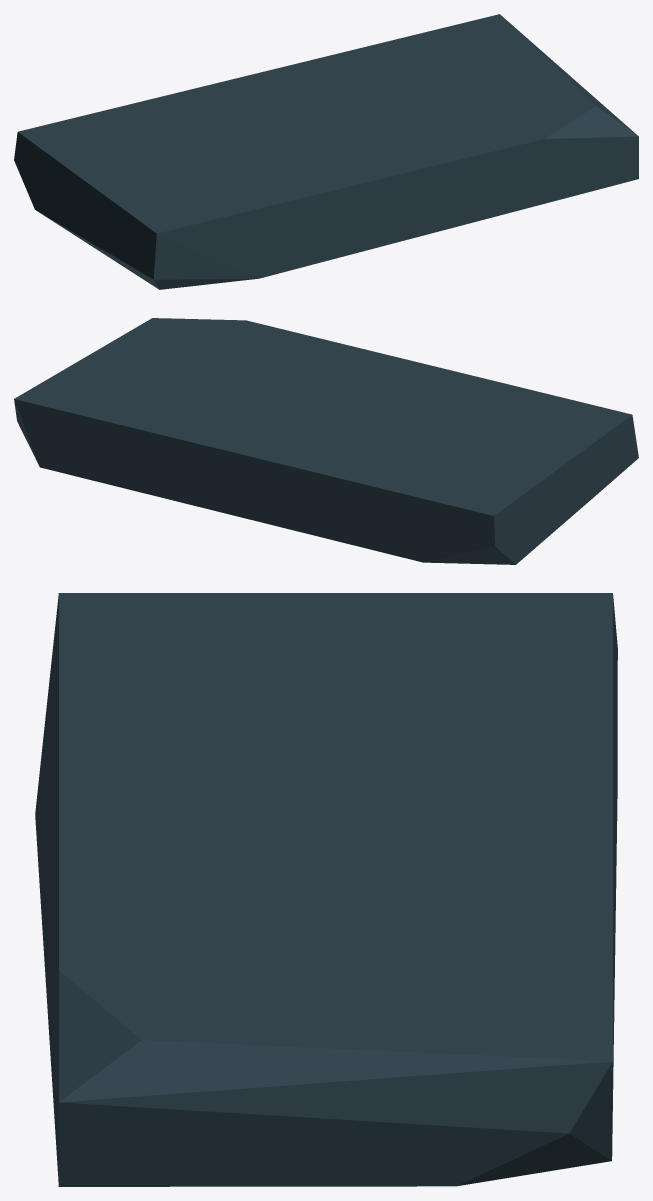
The model's file is floor_element_1x2_one_step_high.fbx.
3 renders of one model, top to bottom at view 1: azimuth 30°, elevation 25°; view 2: azimuth 150°, elevation 25°; view 3: azimuth 270°, elevation 25°, orthographic. The views are drawn at different scales.
Visible parts, largest first — view 1: floor_element_1x2_one_step_high; view 2: floor_element_1x2_one_step_high; view 3: floor_element_1x2_one_step_high.
Boxes of the visible parts, bbox=[...] form: floor_element_1x2_one_step_high: bbox=[14, 14, 638, 289]; floor_element_1x2_one_step_high: bbox=[14, 318, 638, 564]; floor_element_1x2_one_step_high: bbox=[35, 593, 617, 1186].
Bounding box in the file's own units: 205 × 28.89 × 105.
